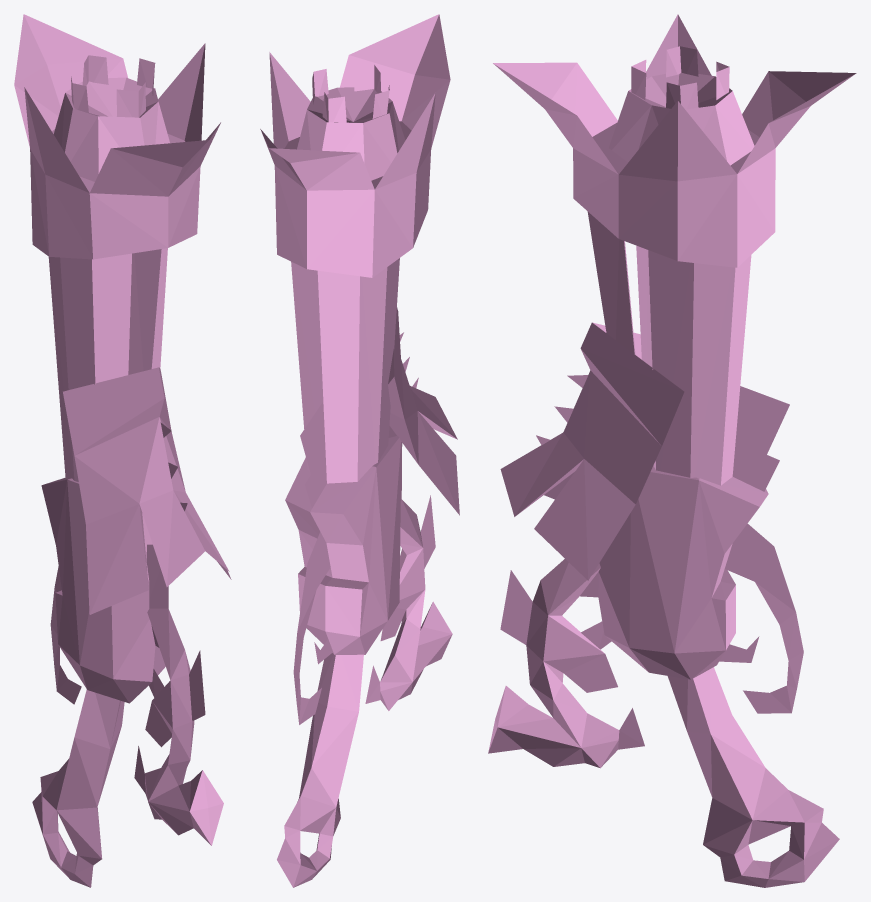
The picture shows the model from 3 angles, left to right: view 1: azimuth 30°, elevation 25°; view 2: azimuth 150°, elevation 25°; view 3: azimuth 270°, elevation 25°; orthographic projection. The views are drawn at different scales.
Visible parts, largest first — view 1: DrawCall_2; view 2: DrawCall_2; view 3: DrawCall_2.
Boxes of the visible parts, box(x1,y1,x2,y2) form: DrawCall_2: box(14, 14, 231, 887); DrawCall_2: box(260, 14, 459, 887); DrawCall_2: box(488, 14, 856, 887).
Size of the model in its own units: 22.57 by 101 by 40.62.
